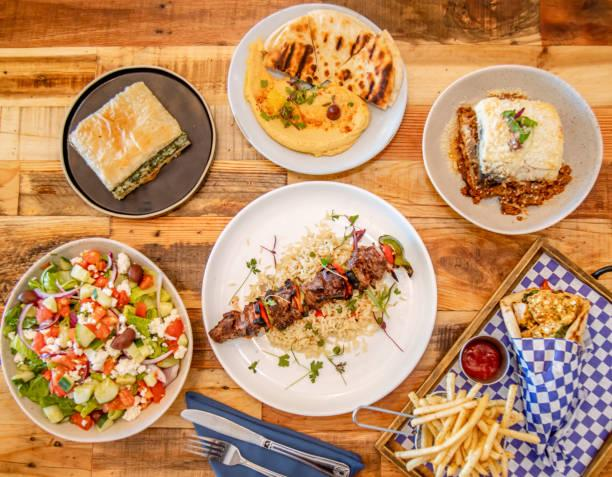Braised Crucian Carp: (202, 182, 436, 415), (4, 235, 194, 443), (226, 2, 408, 176), (421, 64, 601, 235), (59, 65, 212, 219)
